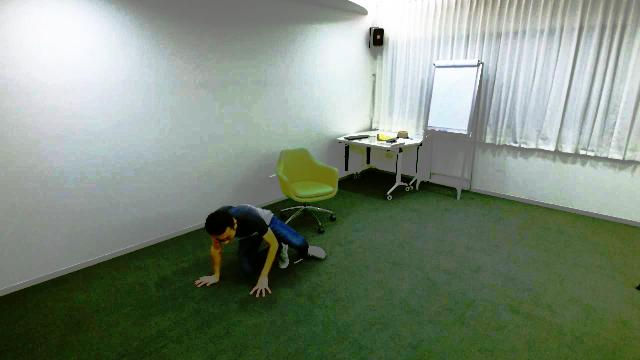jatuh: (182, 192, 334, 304)
